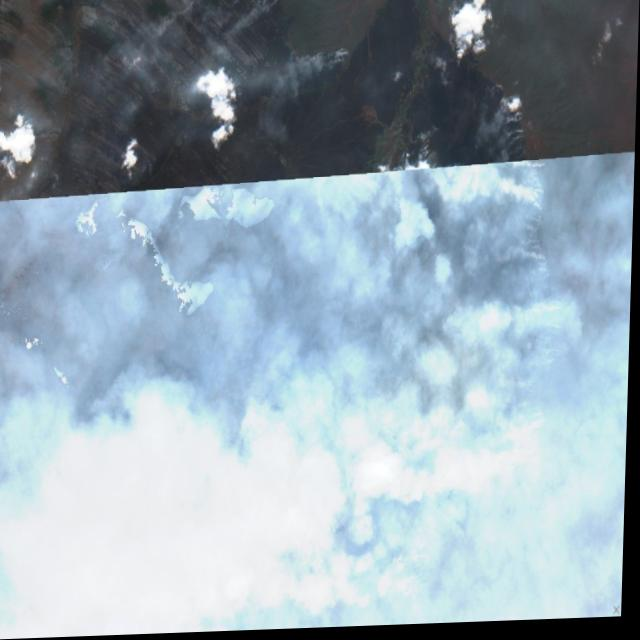fire: (338, 67, 589, 615)
